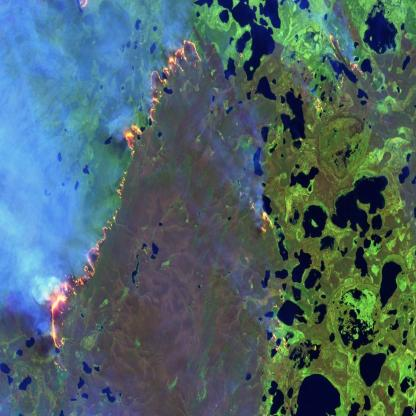fire: (46, 35, 205, 377), (311, 22, 368, 122), (266, 286, 300, 371), (244, 183, 278, 237), (74, 0, 92, 15)
